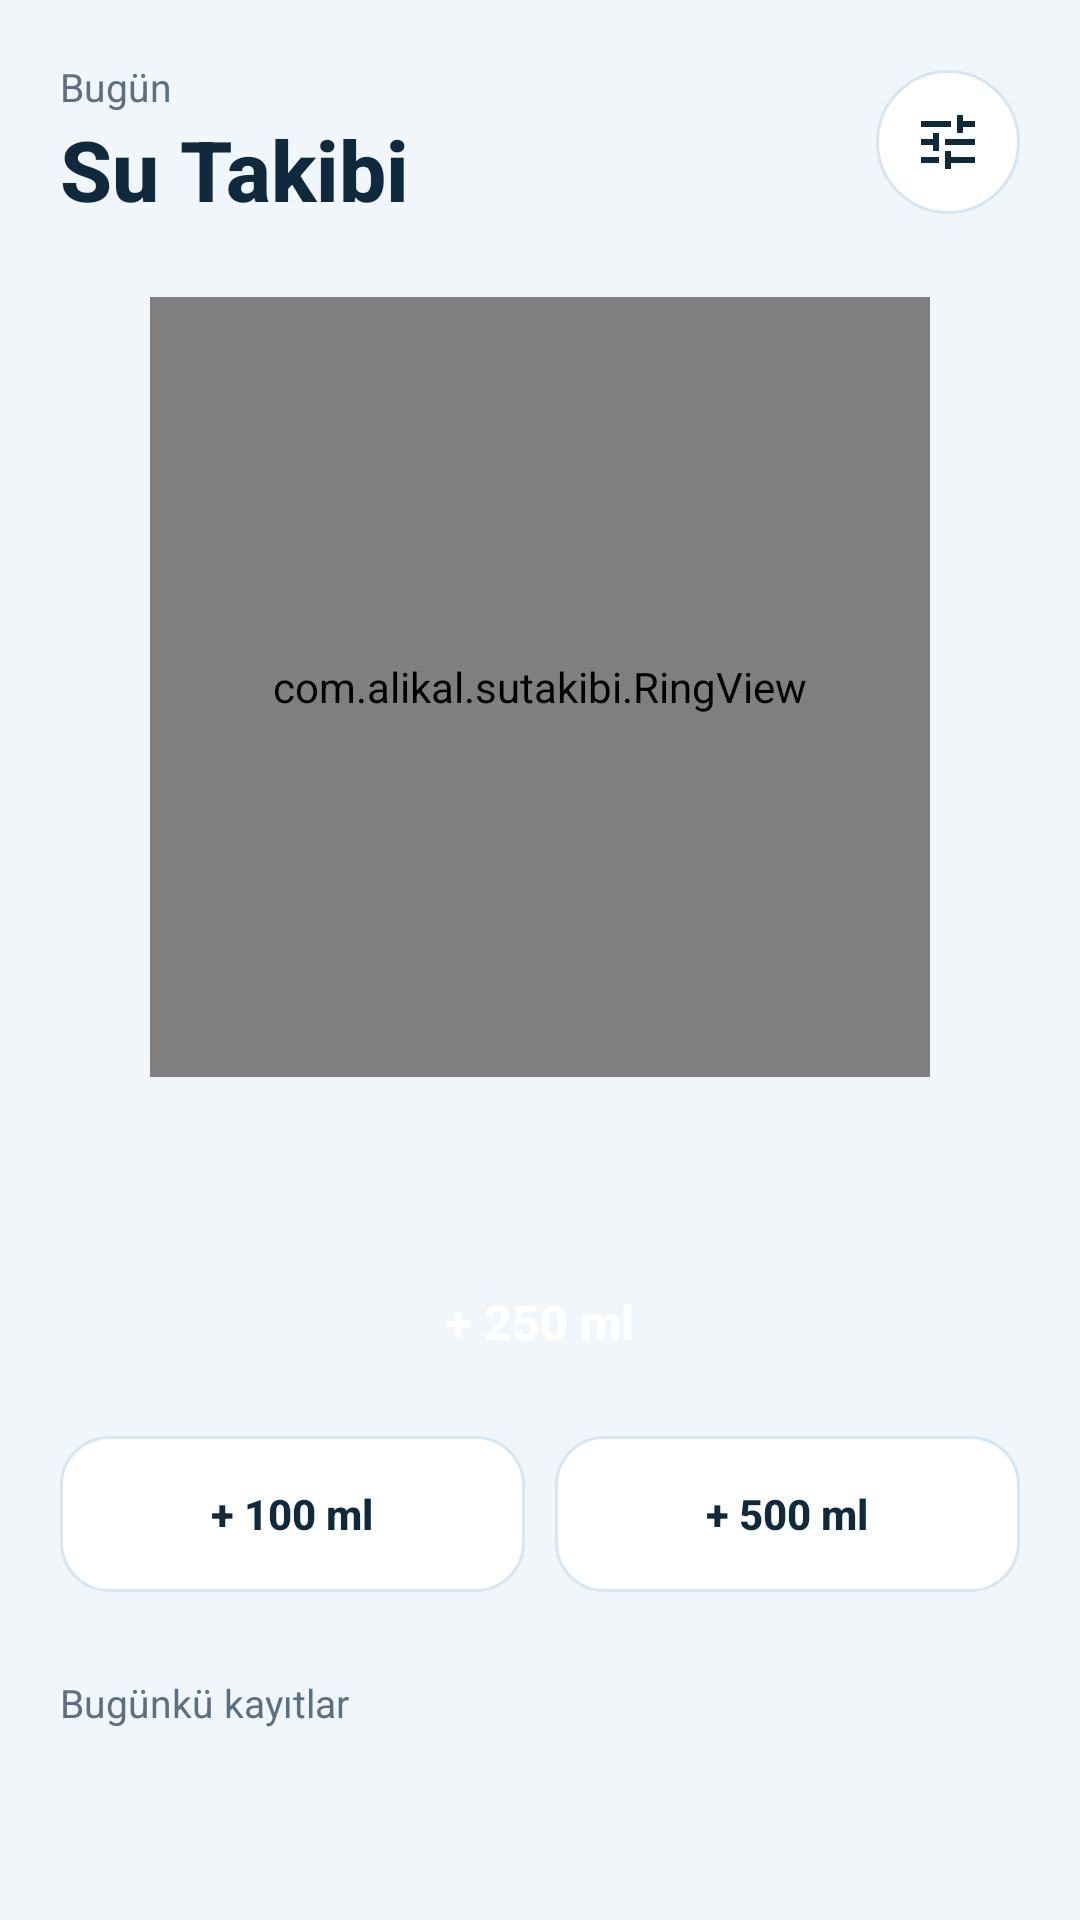

Where icons sit on this 1080*1920 app screen, as bbox=(x1, y1, x2, y2):
Ayarlar: bbox=(876, 70, 1020, 214)
